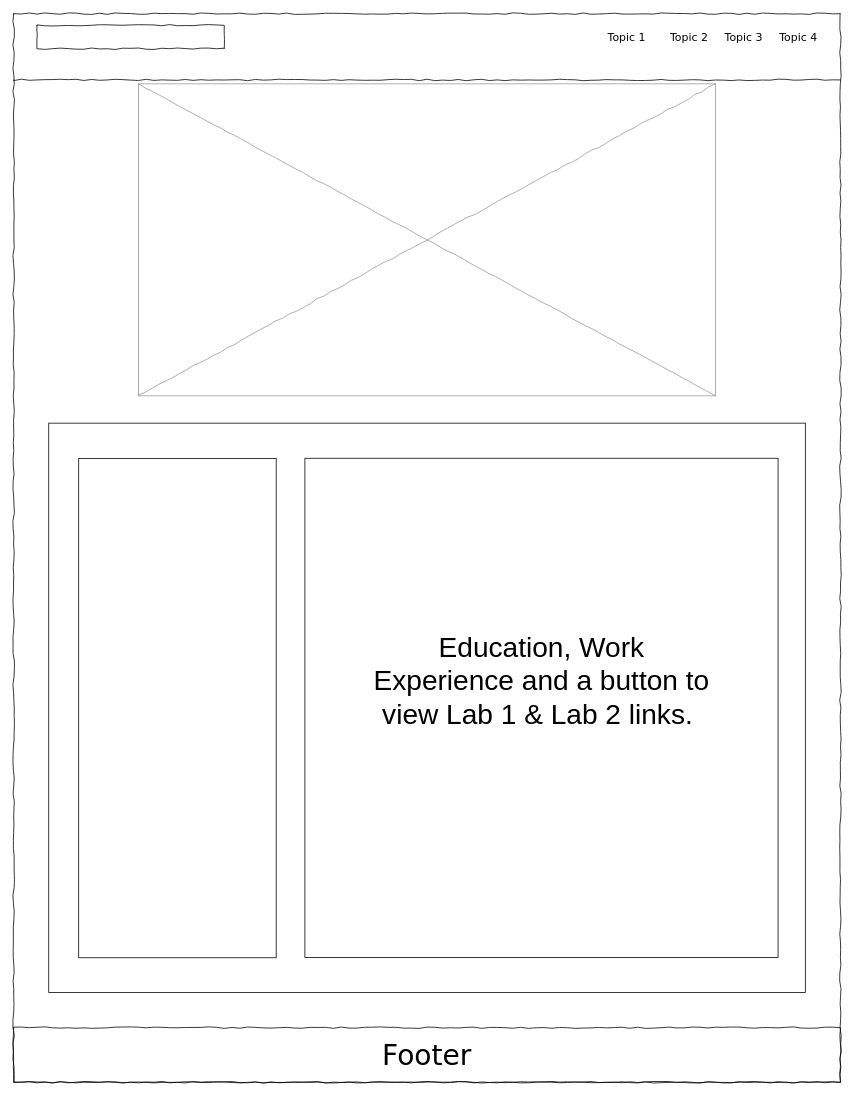
Image size: 854x1096. Some labels were removed from this diagram. The shapes that lost their labels are listed below. From the top down, each one's centre as x and y in pixels, then its label:
the point at 130,37: Assignment 1
the point at 177,708: Contact, Skills and Languages
